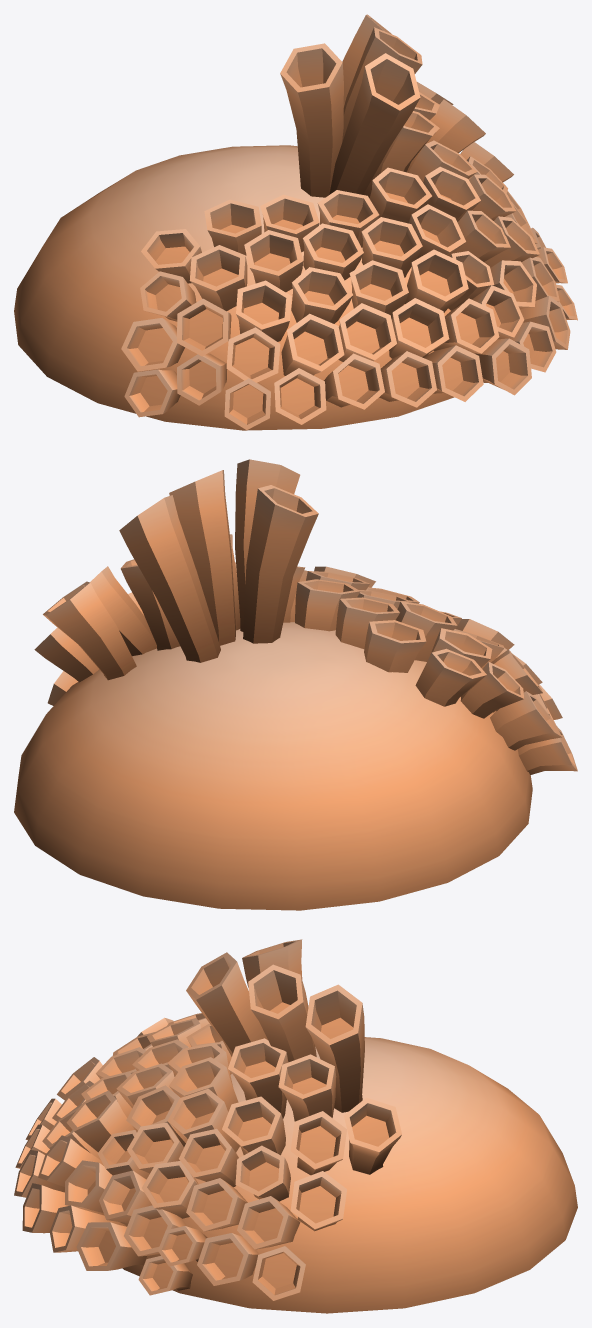
The model's file is CoralReef_01.fbx.
3 views of the same model, one above another, from view 1: azimuth 30°, elevation 25°; view 2: azimuth 150°, elevation 25°; view 3: azimuth 270°, elevation 25° (orthographic). The views are drawn at different scales.
Visible parts, largest first — view 1: pSphere2; view 2: pSphere2; view 3: pSphere2.
Part boxes in pixels (x1,y1,x2,y2): pSphere2: (14,14,577,430); pSphere2: (14,459,577,910); pSphere2: (14,939,577,1313).
Bounding box in the file's own units: 109 × 64.88 × 118.
Materials: 1 (1 with a texture image).
